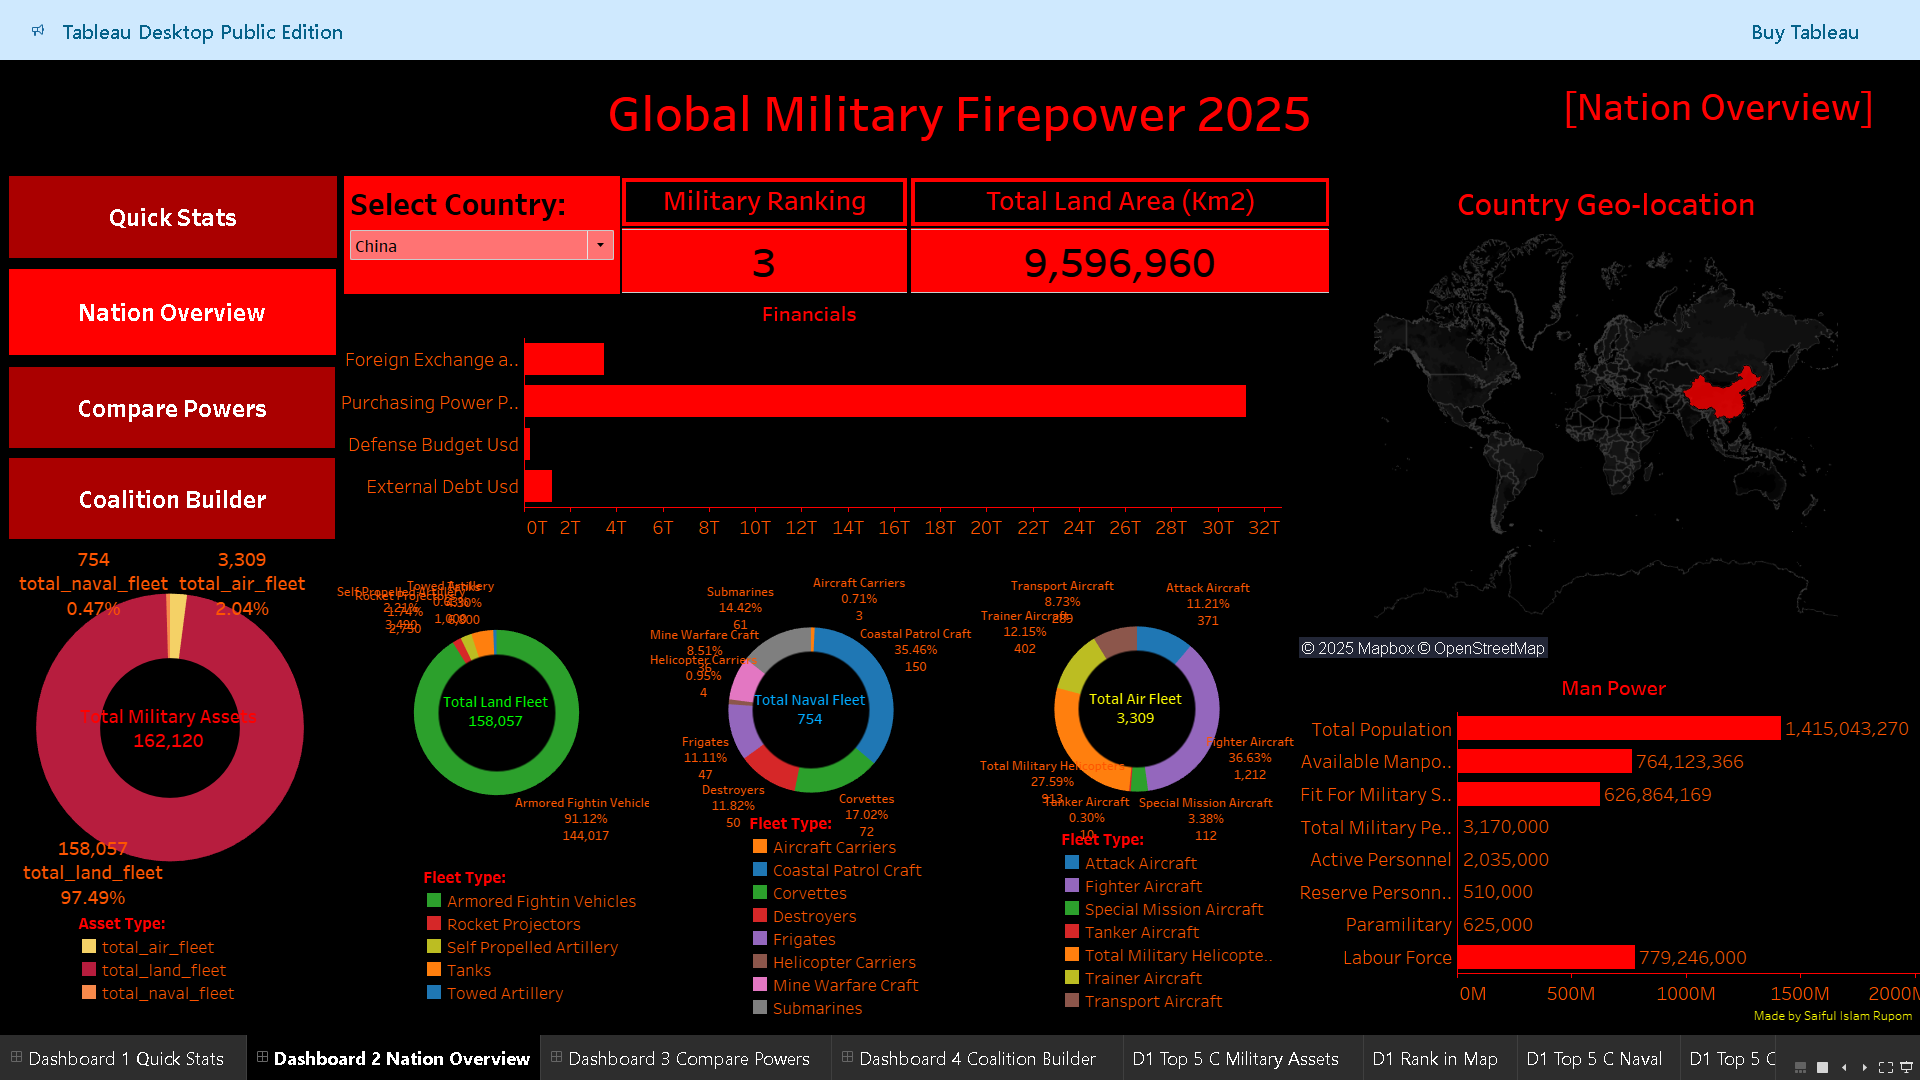

Layout of this report page (visuals, bound fields, positions):
{"tool":"tableau","page":{"name":"Dashboard 2 Nation Overview","canvas":[1000,1000],"units":"permille","ordinal":1},"visuals":[{"type":"text","box":[790.8,2.7,208.6,88.5]},{"type":"dashboard-object","box":[3.7,116.6,172.7,88.5]},{"type":"filter","title":"D2 Manpower","param":"[federated.04j63lw0p5v43o137wemf0y1v2ac].[none:country:nk]","box":[178.9,119.3,144,120.6]},{"type":"worksheet","title":"D2 Rank","mark":"Automatic","cols":["country"],"box":[324,120.6,148.3,119.3]},{"type":"worksheet","title":"D2 Area","mark":"Automatic","cols":["country"],"box":[474.2,120.6,218.2,119.3]},{"type":"worksheet","title":"D2 Map","mark":"Multipolygon","box":[675.2,120.6,322.9,494.6]},{"type":"dashboard-object","box":[3.7,211.8,172.2,92.5]},{"type":"worksheet","title":"D2 Finance","mark":"Bar","box":[175.2,241.3,492.5,250.7]},{"type":"dashboard-object","box":[3.7,312.3,171.6,87.1]},{"type":"dashboard-object","box":[3.7,406.2,171.6,87.1]},{"type":"worksheet","title":"D2 Military Assets Pie","mark":"Pie","rows":["Calculation_896497814102994947","Calculation_896497814103035909"],"box":[2.7,496,171.6,376.7]},{"type":"worksheet","title":"D2 Naval Fleet Pie","mark":"Pie","rows":["Calculation_440226876956221441","Calculation_440226876956250115"],"box":[337.9,504,169,325.7]},{"type":"worksheet","title":"D2 Land Fleet Pie","mark":"Pie","rows":["Calculation_440226876956221441","Calculation_440226876956250115"],"box":[174.6,505.4,168.3,327.1]},{"type":"worksheet","title":"D2 Air Fleet Pie","mark":"Pie","rows":["Calculation_440226876956221441","Calculation_440226876956250115"],"box":[510,505.4,164.6,320.4]},{"type":"worksheet","title":"D2 Manpower","mark":"Bar","box":[675.4,624.7,329.4,344.5]},{"type":"legend","title":"D2 Naval Fleet Pie","param":"[federated.0es5gm80gnyh4g119eq7c1mg80qc].[none:Attributes:nk]","box":[390,770.8,104.1,226.5]},{"type":"worksheet","title":"D* My Name and Link","mark":"Automatic","box":[890.3,966.5,107.9,28.2]}]}

Visuals, with their boxes on the dashboard's canvas, which has no fixed pixel size, in thousandths of its width and height (x1, y1, x2, y2). These are canvas units, not pixel positions in the 1920x1080 screenshot, which may show the page scaled, cropped or inside an application window:
text: 791/3/999/91
dashboard-object: 4/117/176/205
"D2 Manpower" filter: 179/119/323/240
"D2 Rank" worksheet: 324/121/472/240
"D2 Area" worksheet: 474/121/692/240
"D2 Map" worksheet (Multipolygon marks): 675/121/998/615
dashboard-object: 4/212/176/304
"D2 Finance" worksheet (Bar marks): 175/241/668/492
dashboard-object: 4/312/175/399
dashboard-object: 4/406/175/493
"D2 Military Assets Pie" worksheet (Pie marks): 3/496/174/873
"D2 Naval Fleet Pie" worksheet (Pie marks): 338/504/507/830
"D2 Land Fleet Pie" worksheet (Pie marks): 175/505/343/832
"D2 Air Fleet Pie" worksheet (Pie marks): 510/505/675/826
"D2 Manpower" worksheet (Bar marks): 675/625/1005/969
"D2 Naval Fleet Pie" legend: 390/771/494/997
"D* My Name and Link" worksheet: 890/966/998/995
